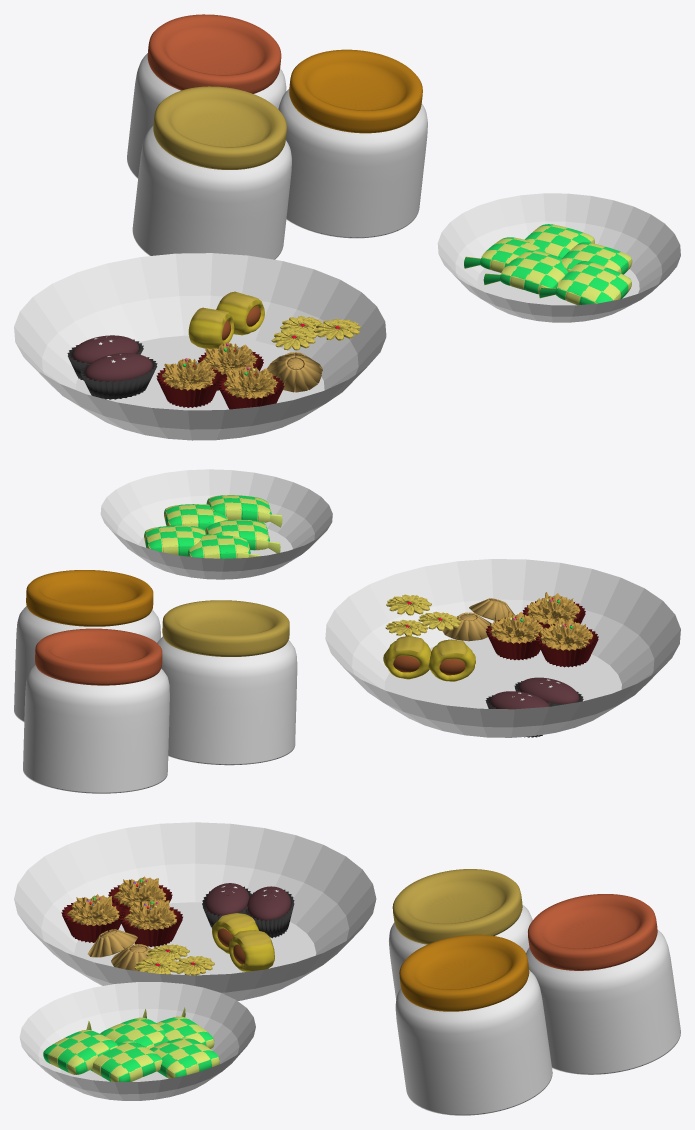
The model's file is plate.fbx.
The picture shows the model from 3 angles, top to bottom: view 1: azimuth 30°, elevation 25°; view 2: azimuth 150°, elevation 25°; view 3: azimuth 270°, elevation 25°; orthographic projection. The views are drawn at different scales.
Parts seen in each view (by area): view 1: Circle.002; view 2: Circle.002; view 3: Circle.002.
Boxes of the visible parts, box(x1,y1,x2,y2) form: Circle.002: box(14, 14, 680, 440); Circle.002: box(14, 469, 680, 793); Circle.002: box(14, 822, 680, 1115).
Size of the model in its own units: 684 by 163 by 682.
